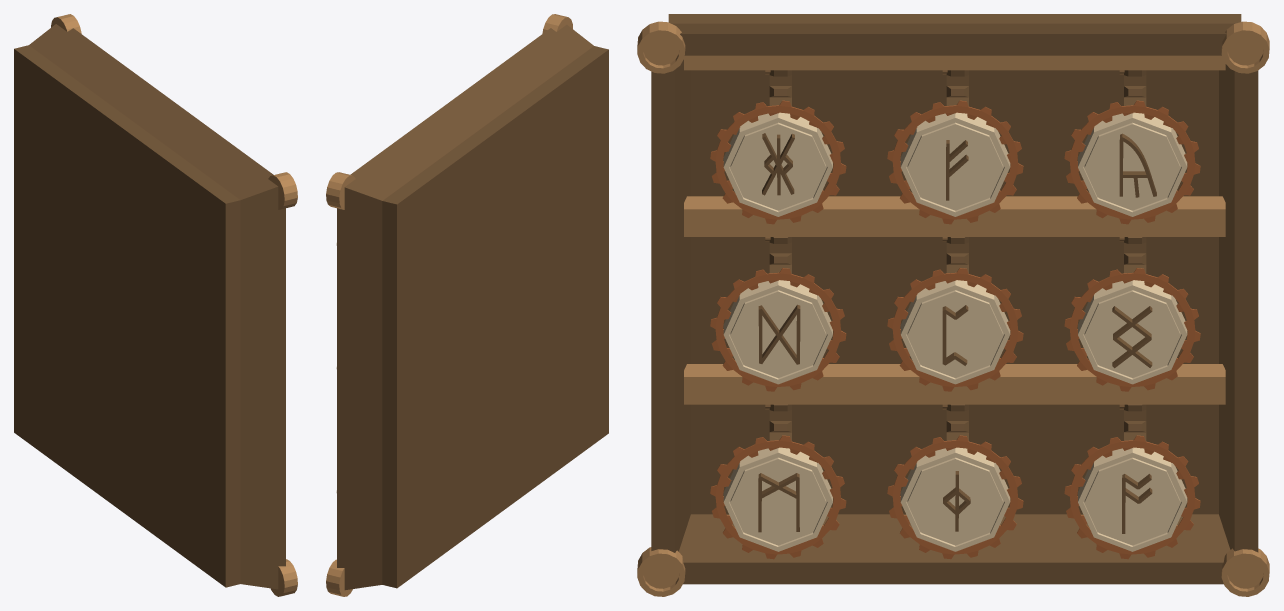
Rendered from passwordpanel 1.fbx.
The picture shows the model from 3 angles, left to right: view 1: azimuth 30°, elevation 25°; view 2: azimuth 150°, elevation 25°; view 3: azimuth 270°, elevation 25°; orthographic projection. The views are drawn at different scales.
Visible parts, largest first — view 1: Cube.080, Cylinder.135, Cylinder.138; view 2: Cube.080, Cylinder.142, Cylinder.137; view 3: Cube.080, Cube.083, Cube.081, Button.002, Button.005, Button.008, Button.011, Button.007, Button.003, Button.001, Button.006, Button.004 (+10 smaller).
Boxes of the visible parts, box(x1,y1,x2,y2) form: Cube.080: box(14, 24, 285, 589); Cylinder.135: box(268, 172, 297, 209); Cylinder.138: box(270, 559, 297, 596); Cube.080: box(337, 24, 608, 590); Cylinder.142: box(326, 172, 355, 209); Cylinder.137: box(326, 559, 352, 596); Cube.080: box(651, 14, 1258, 584); Cube.083: box(684, 364, 1225, 404); Cube.081: box(684, 196, 1225, 236); Button.002: box(887, 70, 1023, 224); Button.005: box(887, 237, 1023, 391); Button.008: box(887, 404, 1023, 559); Button.011: box(1064, 404, 1200, 559); Button.007: box(710, 404, 846, 559); Button.003: box(1064, 70, 1200, 224); Button.001: box(710, 70, 846, 224); Button.006: box(710, 237, 846, 391); Button.004: box(1064, 237, 1200, 391).
Size of the model in its own units: 10.79 by 50.16 by 50.71.
